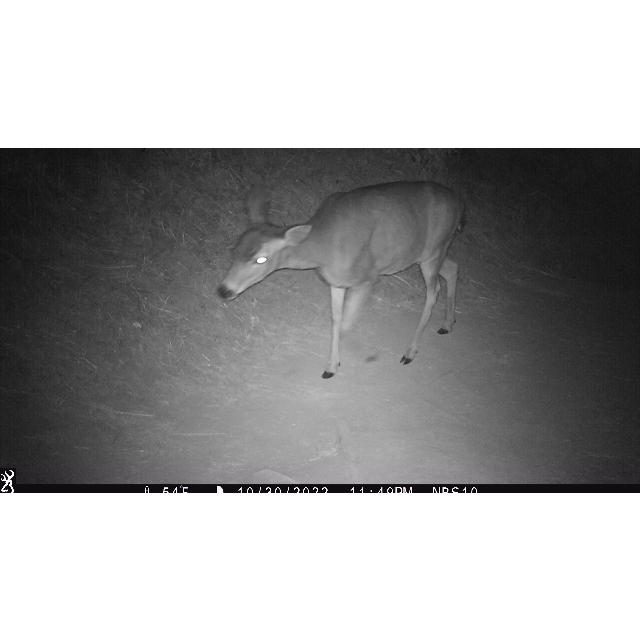animals: (220, 174, 468, 382)
